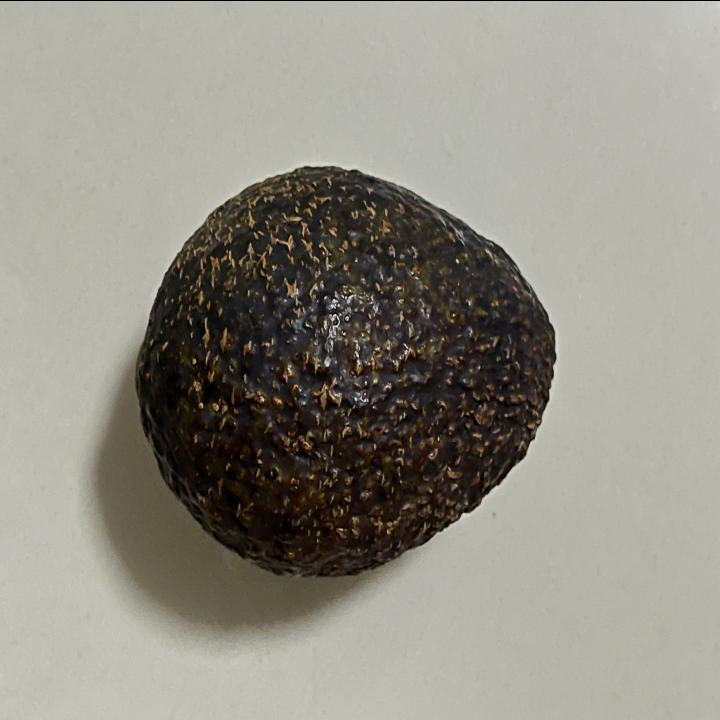Level2: (131, 150, 560, 585)
